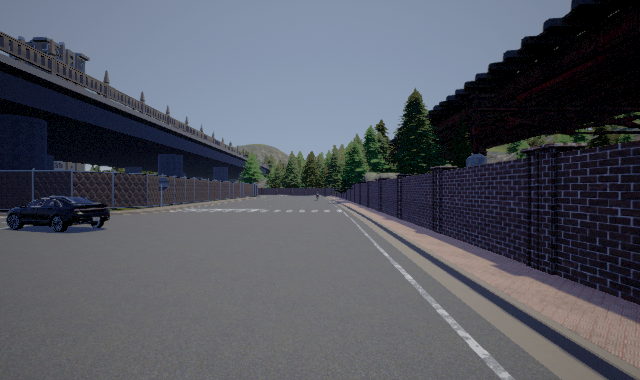vehicle: (6, 196, 110, 232)
